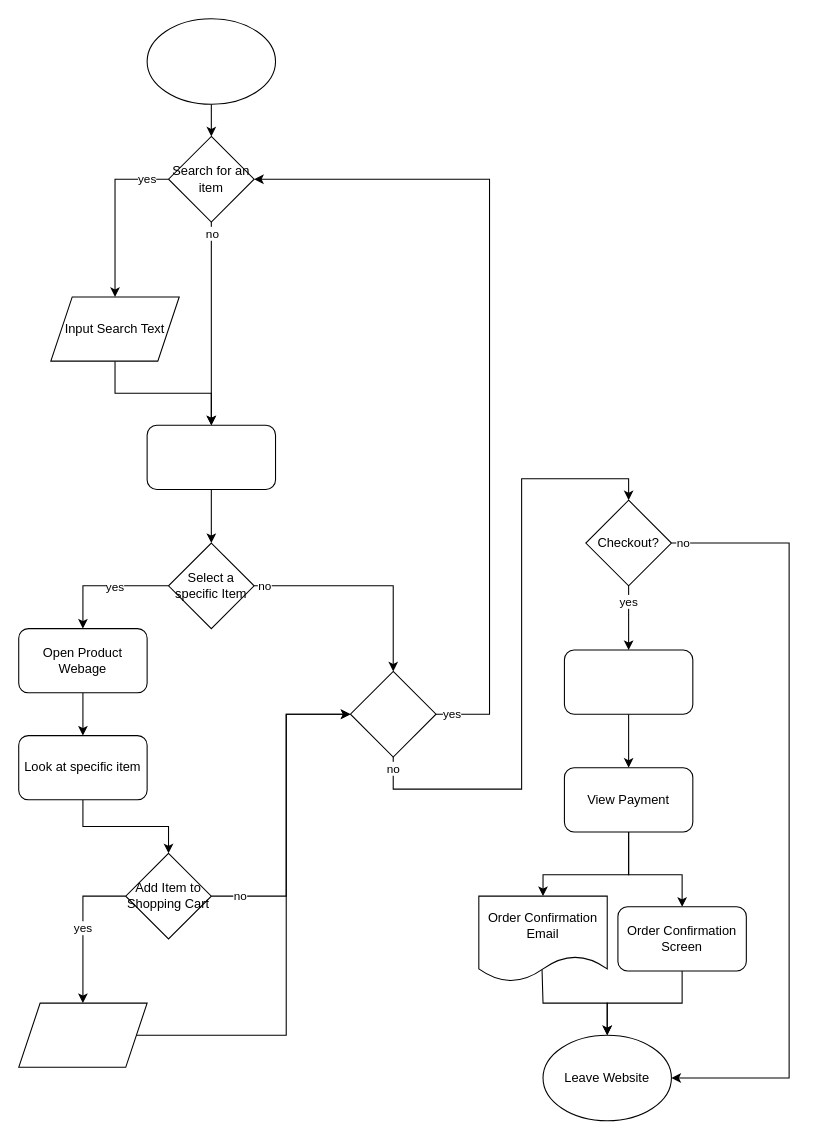
Image size: 816x1140. Some labels were removed from this diagram. The shapes that lost their labels are listed below. From the top down, each one's box as (x1, y1, x2, y2) in pixels, then its label:
(146, 18, 276, 104): Enter Website
(146, 424, 276, 490): Look at items
(563, 649, 693, 714): View Cart
(349, 670, 436, 757): Continue Shopping?
(18, 1002, 147, 1067): Confirm Cart
